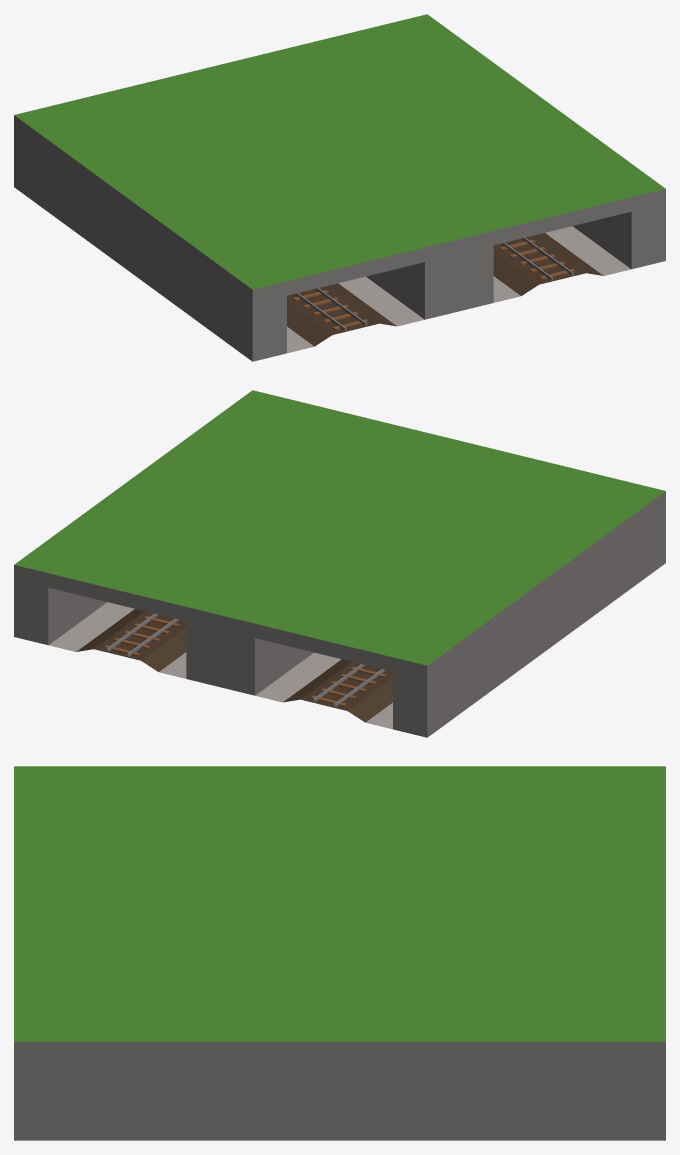
The model's file is tiles-nb_tile-rail-tunnel-double-nb.fbx.
The picture shows the model from 3 angles, top to bottom: view 1: azimuth 30°, elevation 25°; view 2: azimuth 150°, elevation 25°; view 3: azimuth 270°, elevation 25°; orthographic projection. The views are drawn at different scales.
Visible parts, largest first — view 1: tiles_nb_tile_rail_tunnel_double_nb; view 2: tiles_nb_tile_rail_tunnel_double_nb; view 3: tiles_nb_tile_rail_tunnel_double_nb.
Part boxes in pixels (box(x1,y1,x2,y2)): tiles_nb_tile_rail_tunnel_double_nb: box(14, 14, 665, 361); tiles_nb_tile_rail_tunnel_double_nb: box(14, 390, 665, 737); tiles_nb_tile_rail_tunnel_double_nb: box(14, 766, 665, 1140).
Size of the model in its own units: 200 by 33.33 by 200.
